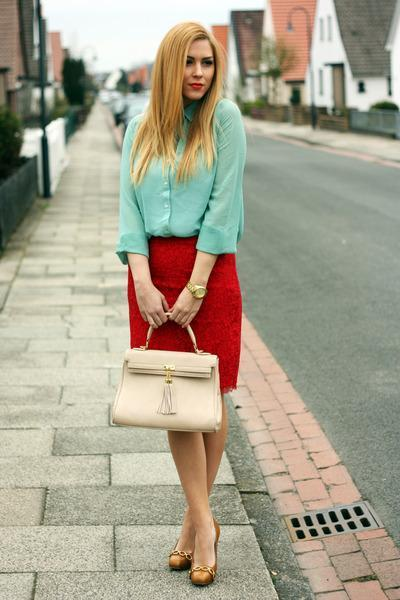bag: (115, 342, 221, 433)
shirt: (104, 110, 245, 253)
shoe: (169, 553, 217, 589)
skirt: (116, 229, 241, 395)
